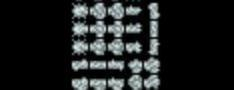ropeT: (107, 37, 125, 56), (143, 55, 161, 73), (124, 73, 142, 90), (90, 0, 106, 18), (90, 38, 106, 56), (108, 1, 124, 19), (107, 20, 124, 36), (144, 73, 160, 90), (90, 20, 106, 36), (126, 56, 142, 72), (125, 38, 143, 52), (107, 76, 125, 90), (72, 76, 89, 90), (89, 76, 106, 90), (72, 40, 88, 54), (149, 0, 160, 20), (89, 58, 107, 70), (108, 58, 126, 70), (148, 19, 160, 37), (72, 22, 88, 35), (72, 4, 88, 17), (126, 21, 142, 34), (149, 37, 159, 55), (72, 59, 88, 70), (126, 4, 140, 14)
